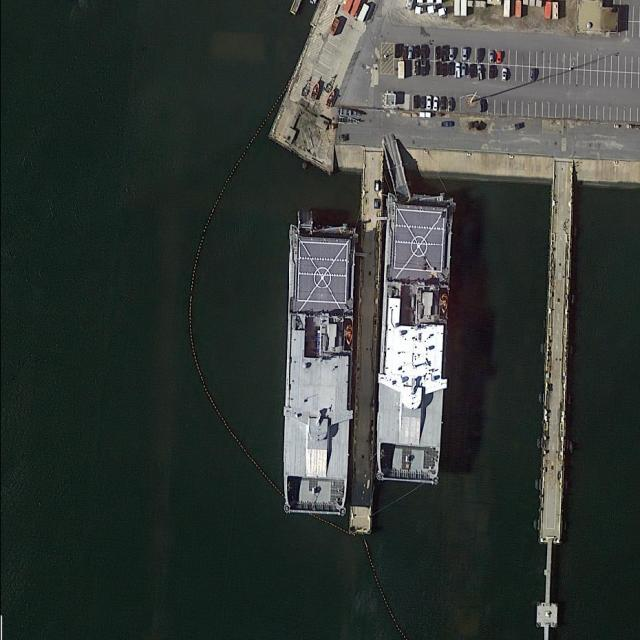Auxiliary Ships: (367, 190, 460, 486), (277, 224, 361, 517)
Dock: (348, 172, 385, 533), (537, 182, 572, 544)
